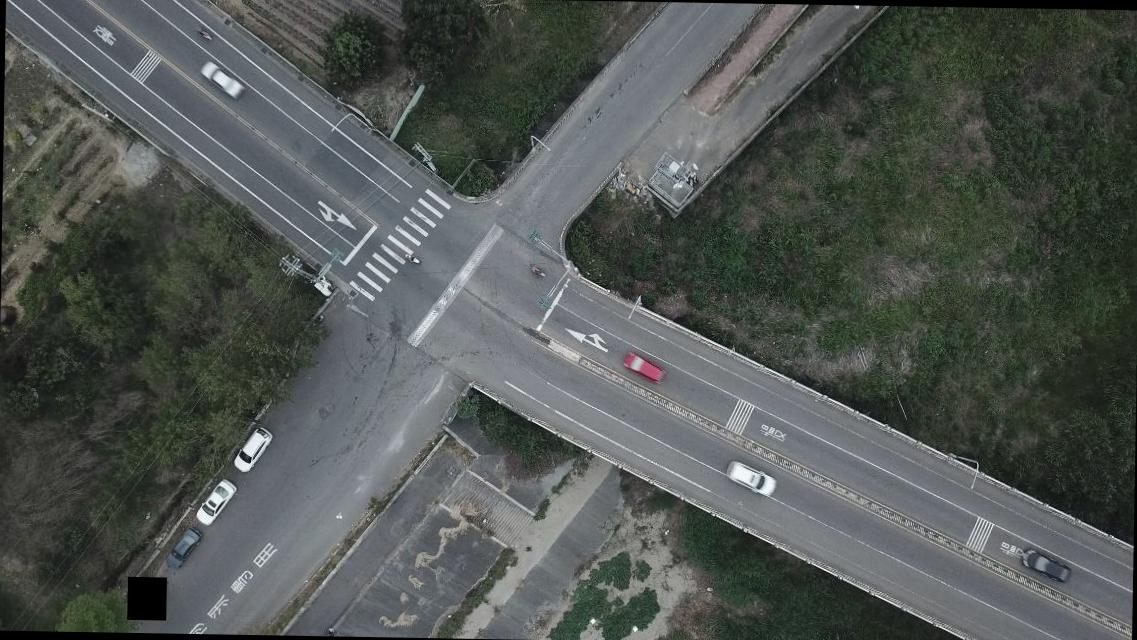vehicle: (722, 458, 778, 498), (1016, 543, 1072, 583), (229, 425, 275, 471), (192, 478, 236, 524), (201, 56, 244, 102), (164, 526, 204, 572), (621, 352, 665, 382)
